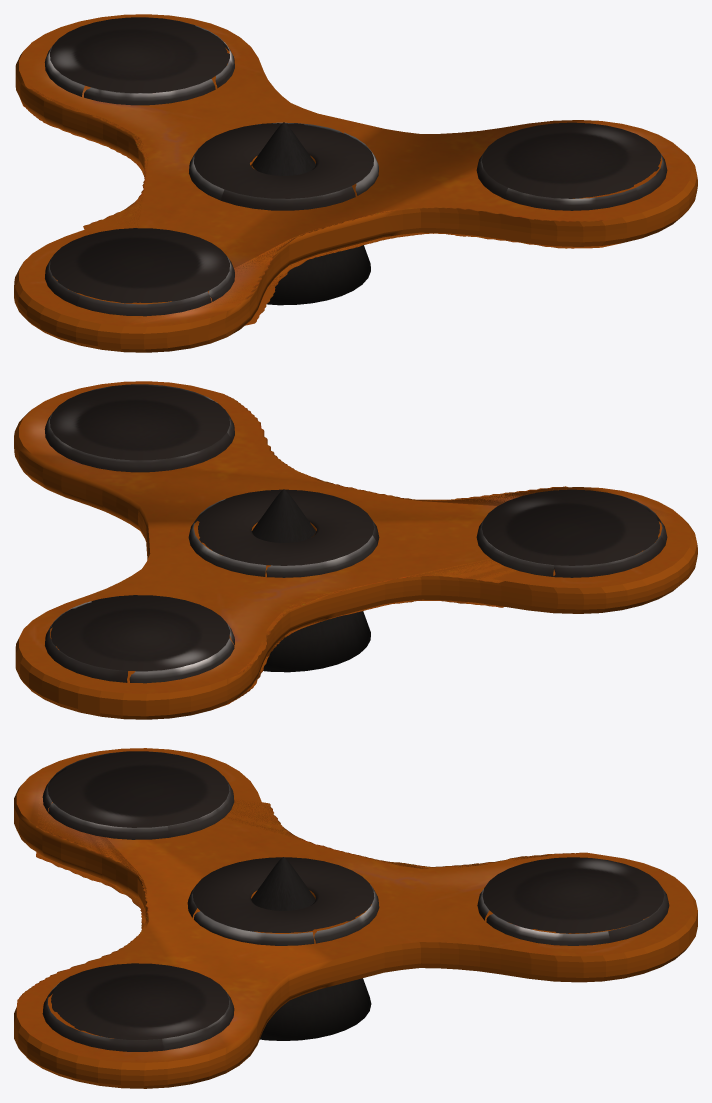
File: fidget.fbx
3 renders of one model, top to bottom at view 1: azimuth 30°, elevation 25°; view 2: azimuth 150°, elevation 25°; view 3: azimuth 270°, elevation 25°, orthographic.
Parts seen in each view (by area): view 1: fidget, Circle; view 2: fidget, Circle; view 3: fidget, Circle.
Part boxes in pixels (<box>): fidget: <box>14,14,697,352</box>; Circle: <box>250,122,370,305</box>; fidget: <box>14,381,697,719</box>; Circle: <box>252,489,370,672</box>; fidget: <box>14,748,697,1088</box>; Circle: <box>251,857,371,1040</box>.
Bounding box in the file's own units: 24.6 × 5.26 × 22.21.
